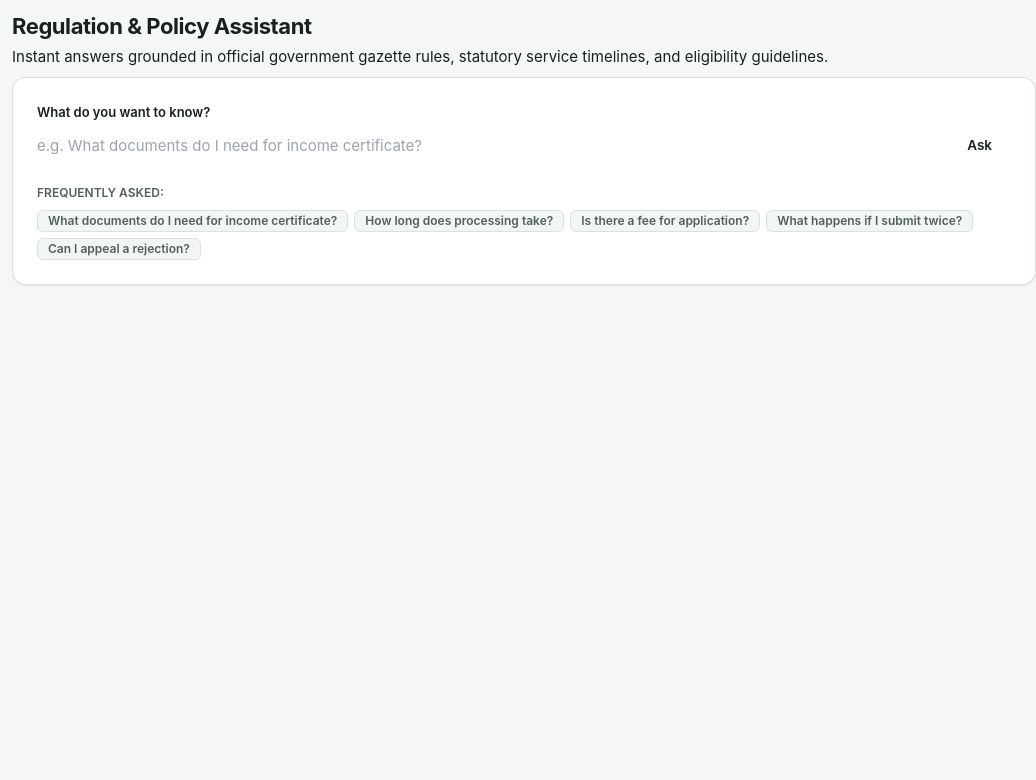
it: AskQuestion › sends the question and renders the real matched passage
The image size is (1036, 780).
In the field labelled "What do you want to know?": (487, 146) [37, 128, 936, 164], type "is there a fee"
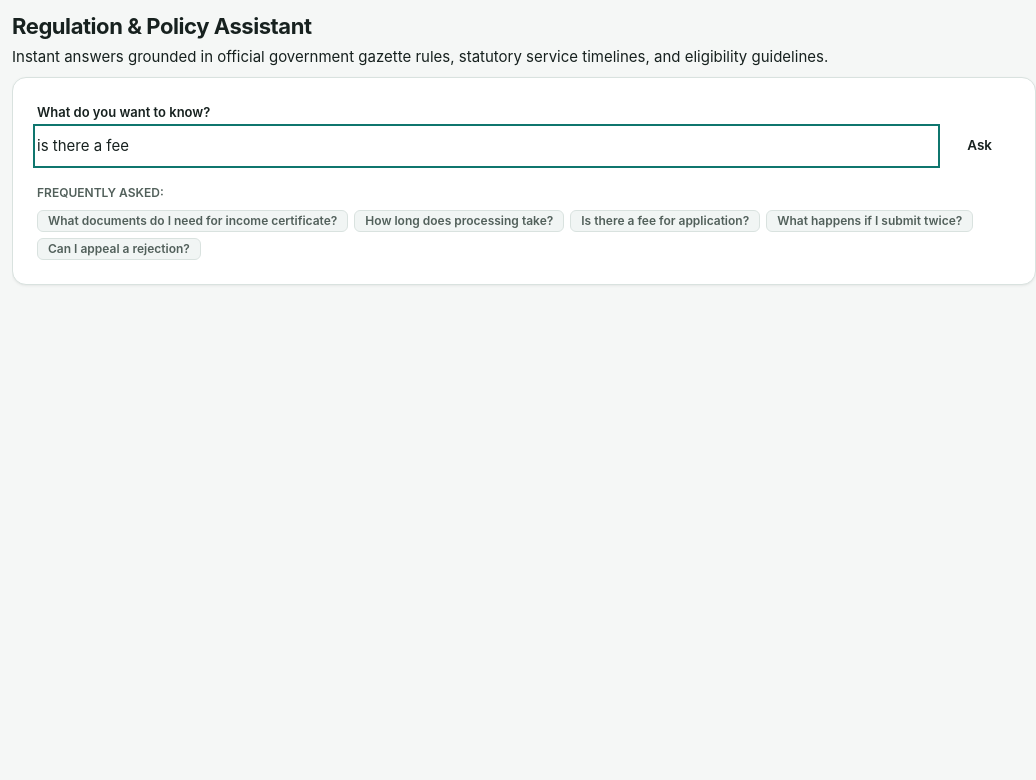
Click the button "Ask": (980, 146) [948, 128, 1011, 164]
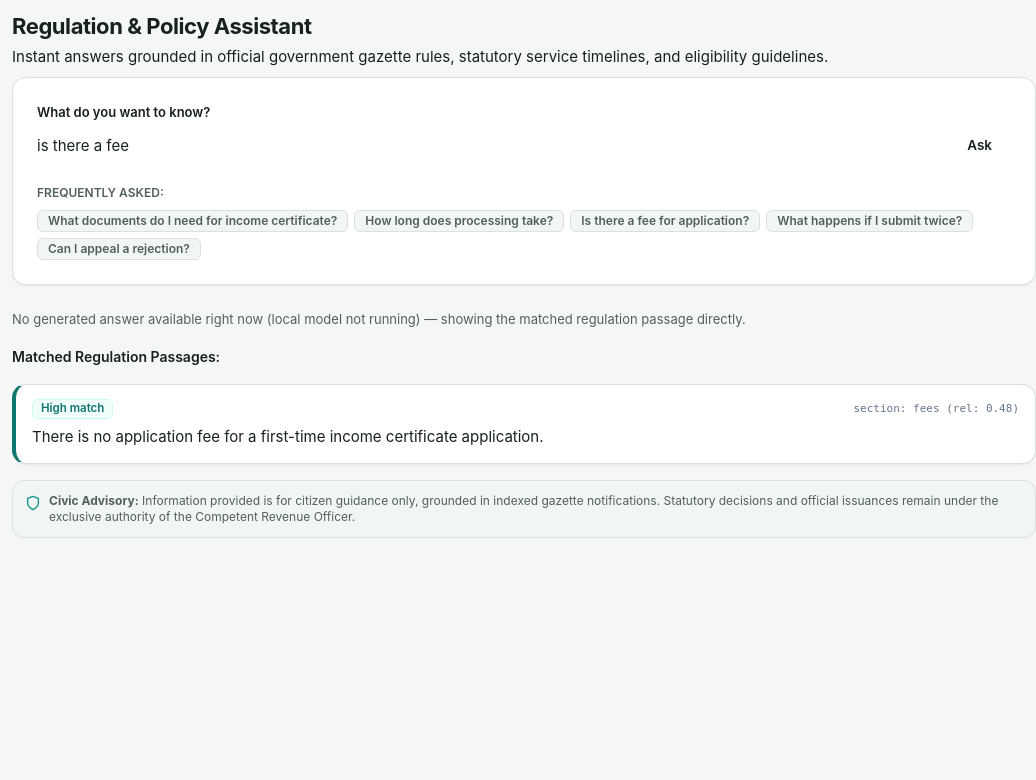
Now the text "High match" is shown, box [32, 399, 113, 419]
Now the text "no application fee" is shown, box [32, 427, 544, 446]
Now the text "No generated answer available" is shown, box [12, 311, 746, 327]
